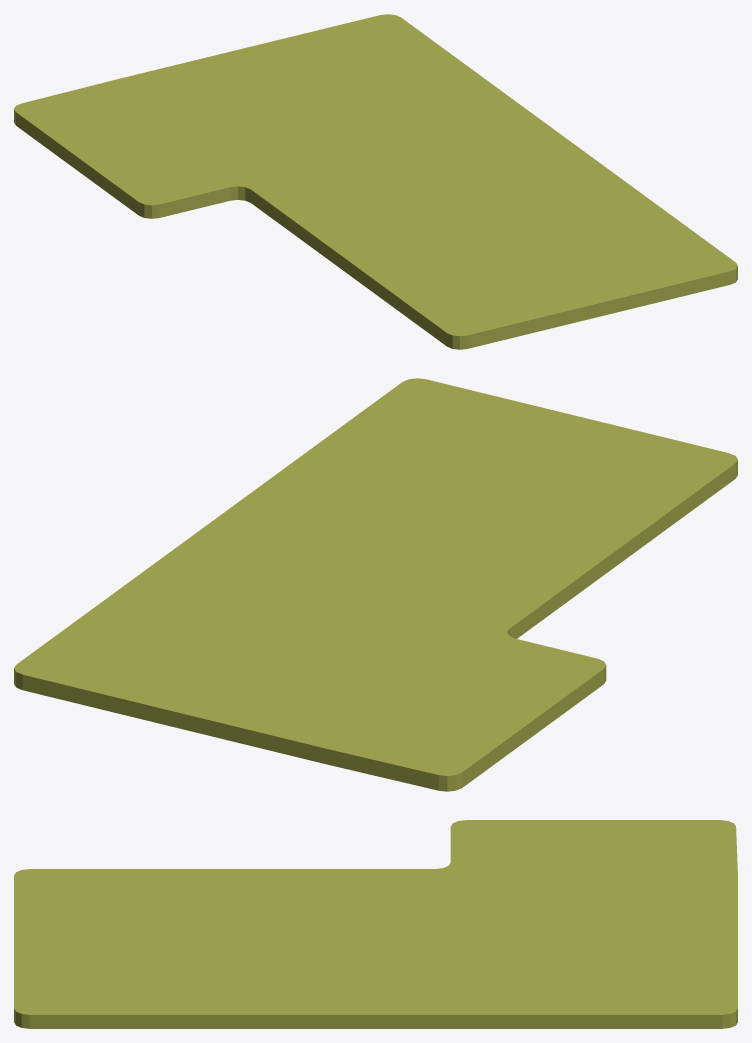
Rendered from grass_top_003.fbx.
3 renders of one model, top to bottom at view 1: azimuth 30°, elevation 25°; view 2: azimuth 150°, elevation 25°; view 3: azimuth 270°, elevation 25°, orthographic. The views are drawn at different scales.
Parts seen in each view (by area): view 1: grass_top.003; view 2: grass_top.003; view 3: grass_top.003.
Part boxes in pixels (x1=…): grass_top.003: x1=14, y1=14, x2=737, y2=349; grass_top.003: x1=14, y1=378, x2=737, y2=791; grass_top.003: x1=14, y1=820, x2=737, y2=1028.
Size of the model in its own units: 447 by 15 by 702.
